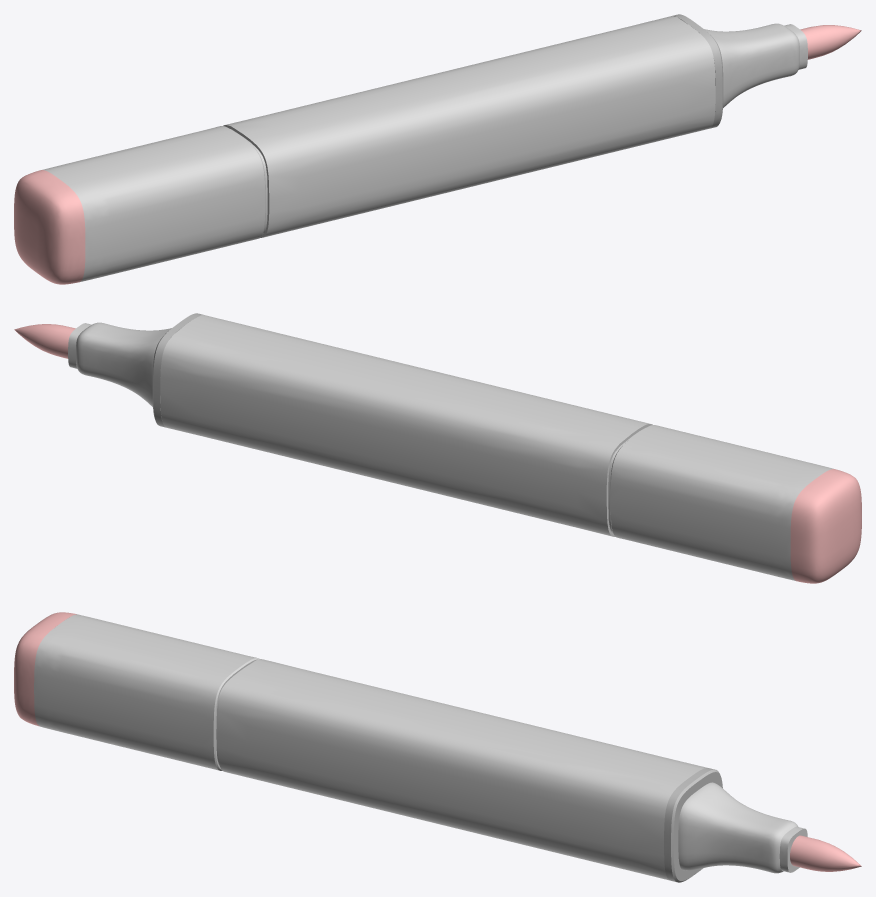
Rendered from 274_イラストマーカー開1.glb.
3 views of the same model, one above another, from view 1: azimuth 30°, elevation 25°; view 2: azimuth 150°, elevation 25°; view 3: azimuth 330°, elevation 25° (orthographic).
Parts seen in each view (by area): view 1: Body, キャップ2; view 2: Body, キャップ2; view 3: Body, キャップ2.
Boxes of the visible parts, box(x1,y1,x2,y2) form: Body: box(223, 14, 861, 237); キャップ2: box(14, 126, 265, 284); Body: box(14, 313, 652, 536); キャップ2: box(610, 425, 861, 583); Body: box(216, 659, 861, 882); キャップ2: box(14, 612, 259, 770).
Size of the model in its own units: 0.1425 by 0.0154 by 0.0153.
